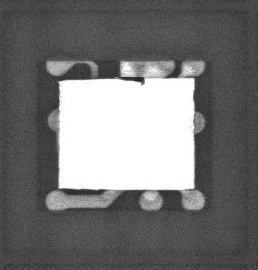DIE_BROKEN: (114, 74, 147, 86)
